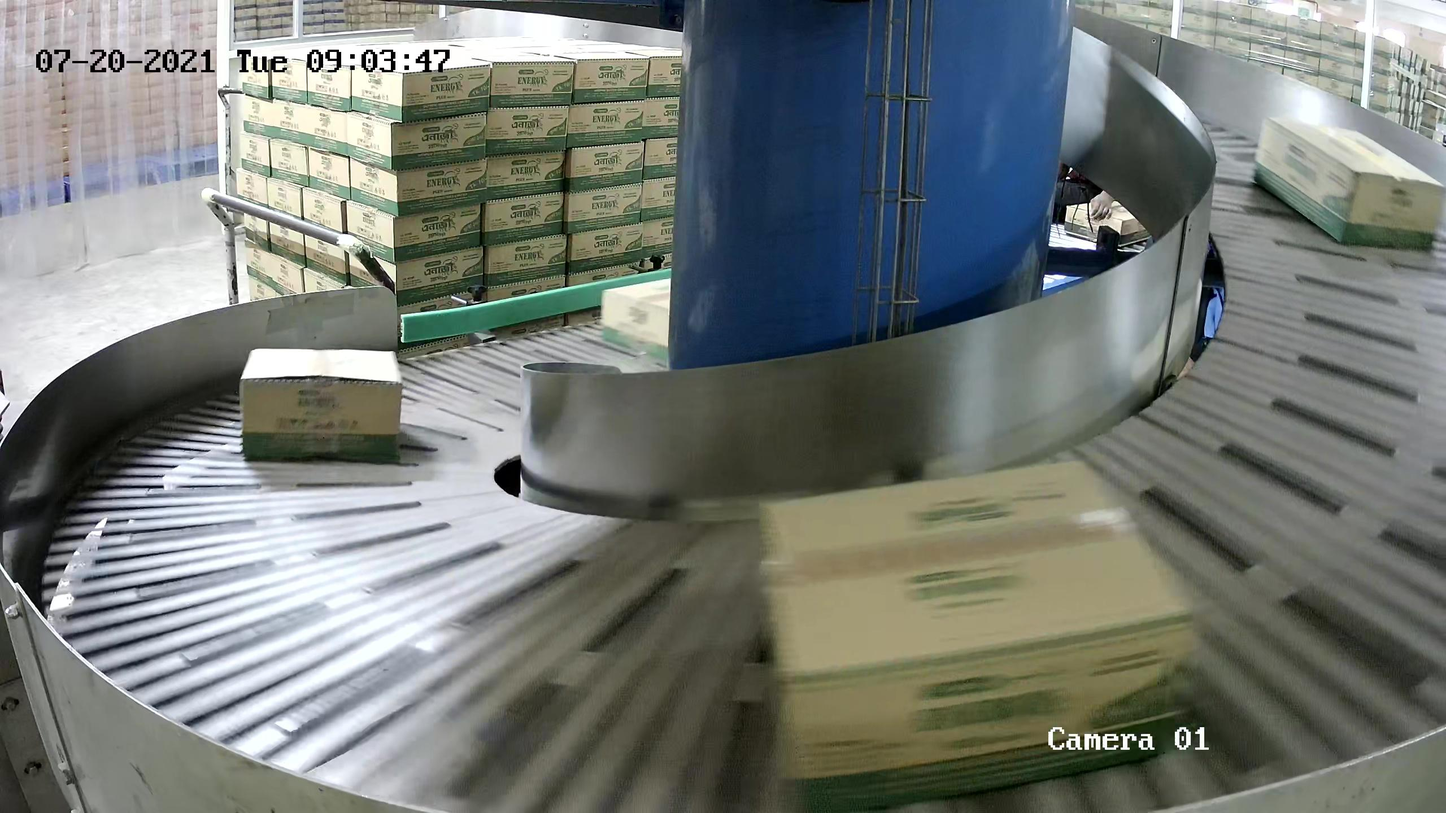Box: (762, 449, 1206, 813), (1253, 115, 1446, 251), (240, 348, 404, 465), (602, 264, 744, 367)
